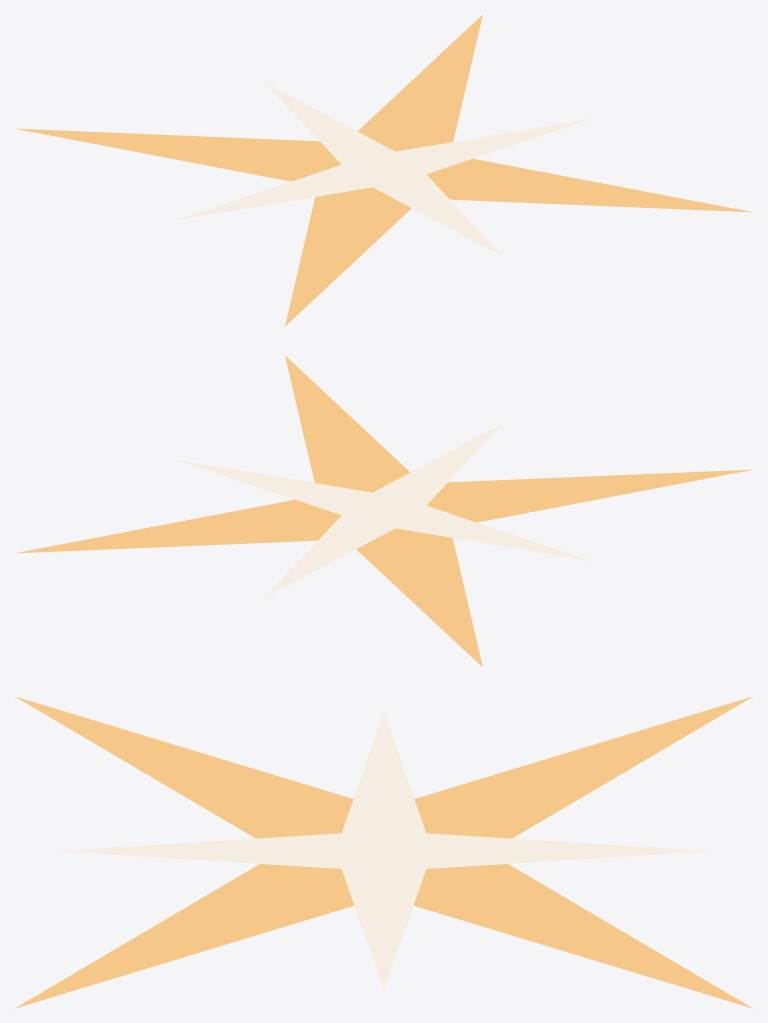
The model's file is gargantua_spark.glb.
The picture shows the model from 3 angles, top to bottom: view 1: azimuth 30°, elevation 25°; view 2: azimuth 150°, elevation 25°; view 3: azimuth 270°, elevation 25°; orthographic projection. The views are drawn at different scales.
Parts seen in each view (by area): view 1: gargantua_spark; view 2: gargantua_spark; view 3: gargantua_spark.
Boxes of the visible parts, <box> form: gargantua_spark: <box>15,14,752,326</box>; gargantua_spark: <box>15,355,752,667</box>; gargantua_spark: <box>15,696,752,1008</box>.
Size of the model in its own units: 0.495 by 0.001 by 0.495.
